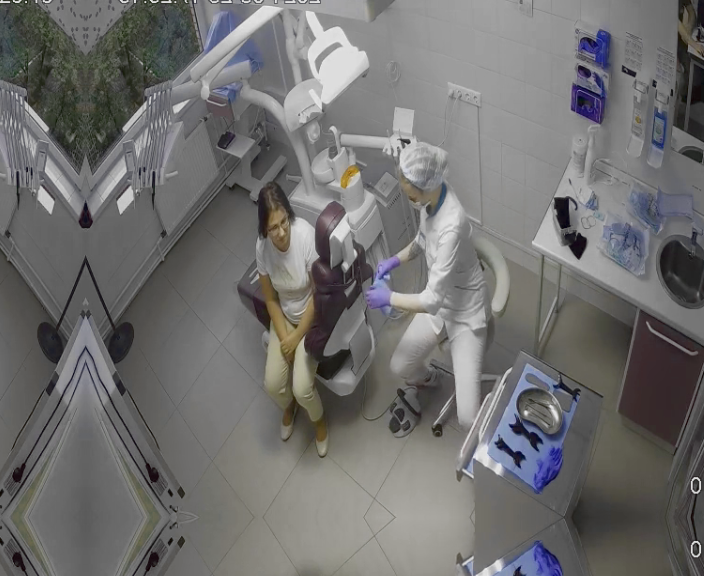Empty: (234, 184, 373, 457)
